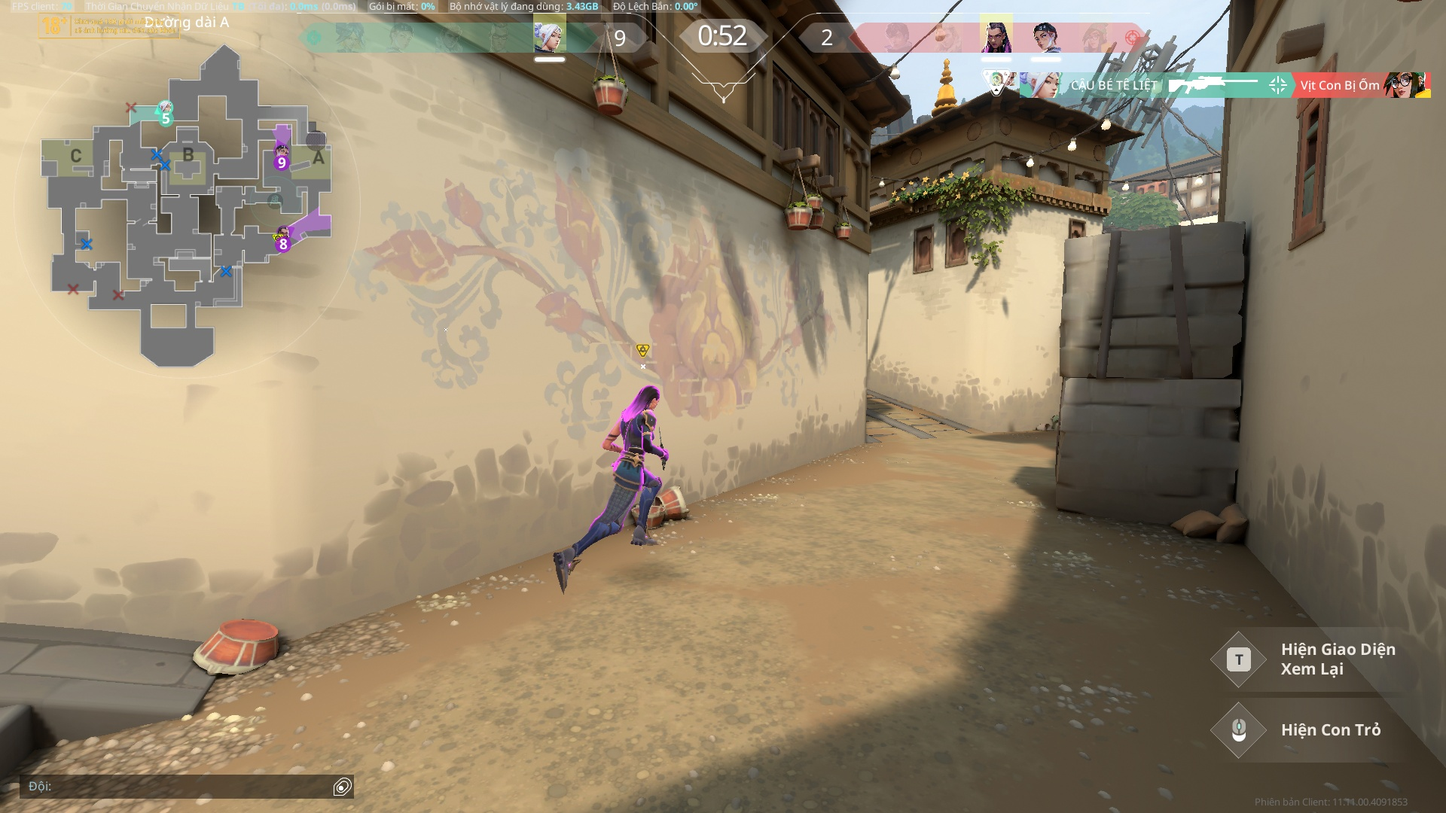body: (615, 407, 652, 452)
head: (634, 384, 662, 411)
